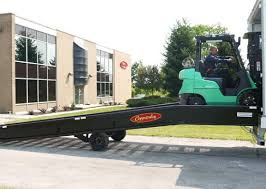Pallet Jack: (177, 31, 266, 108)
Yard Ramp: (2, 103, 258, 140)
